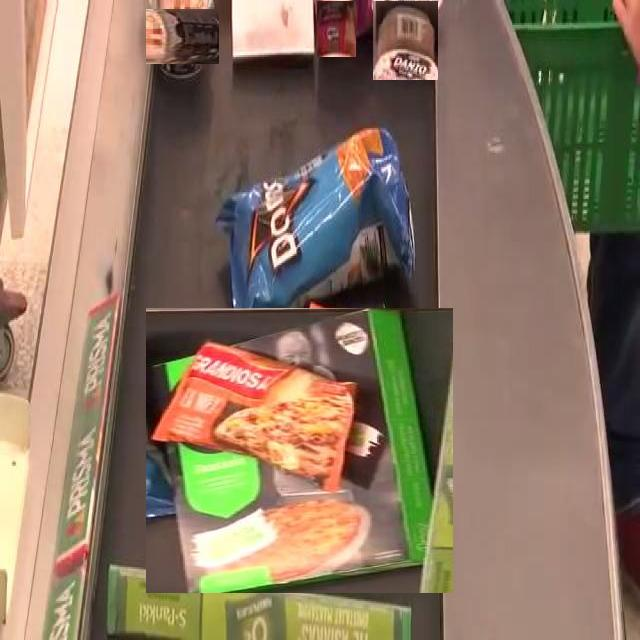food-box: (151, 302, 448, 599), (235, 128, 412, 322), (247, 326, 418, 497), (372, 0, 438, 80), (150, 4, 215, 69), (316, 0, 356, 57)
